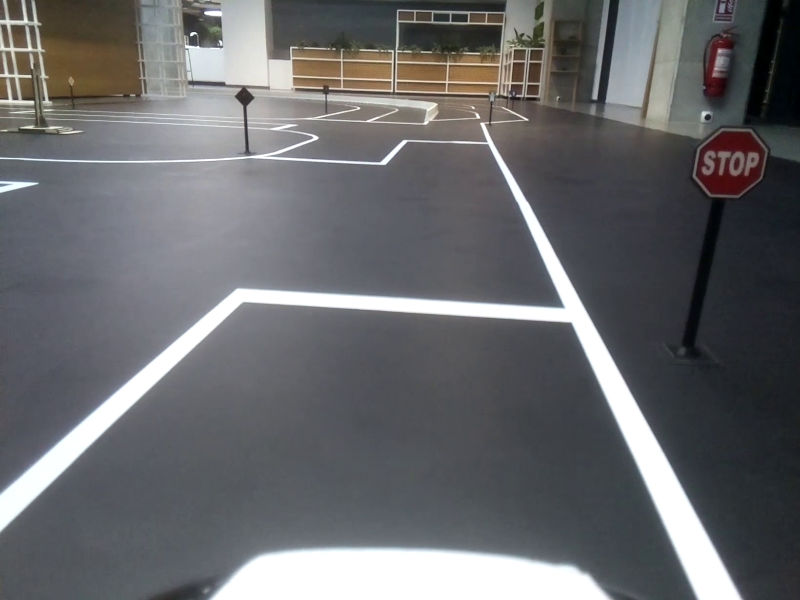stop: (694, 130, 767, 196)
